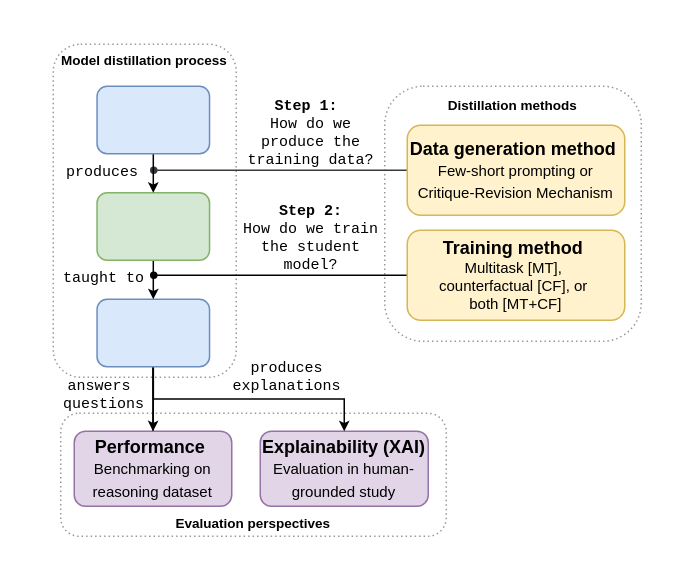
This 681x582 diagram has some shape labels left out. Each missing label, with the centre of its shape:
Student model: the point at 153,332
Teacher model: the point at 153,119
Training data: the point at 153,225
